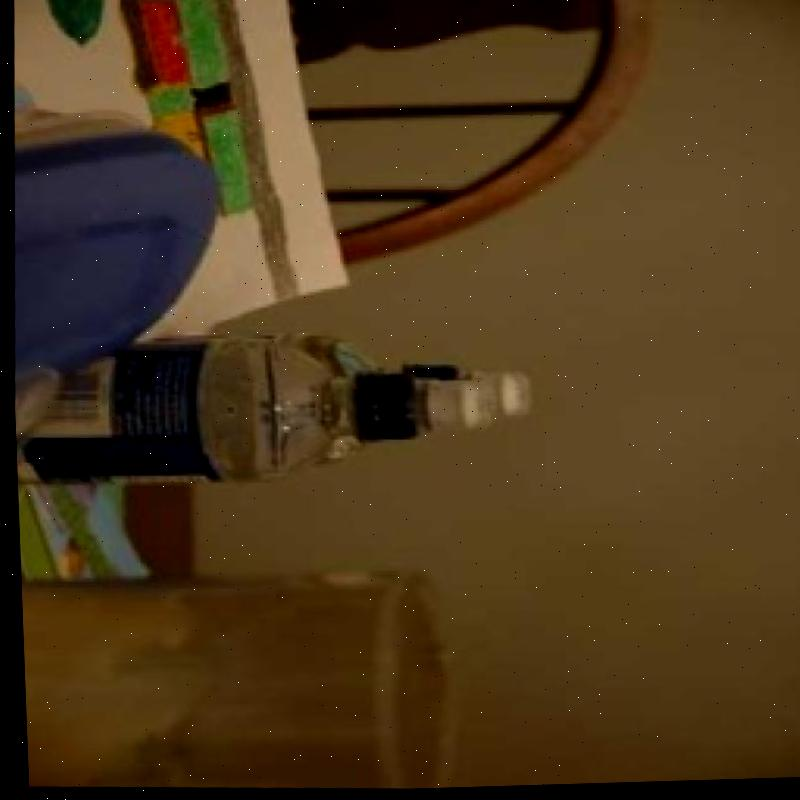botella: (10, 325, 491, 502), (210, 321, 535, 490)
